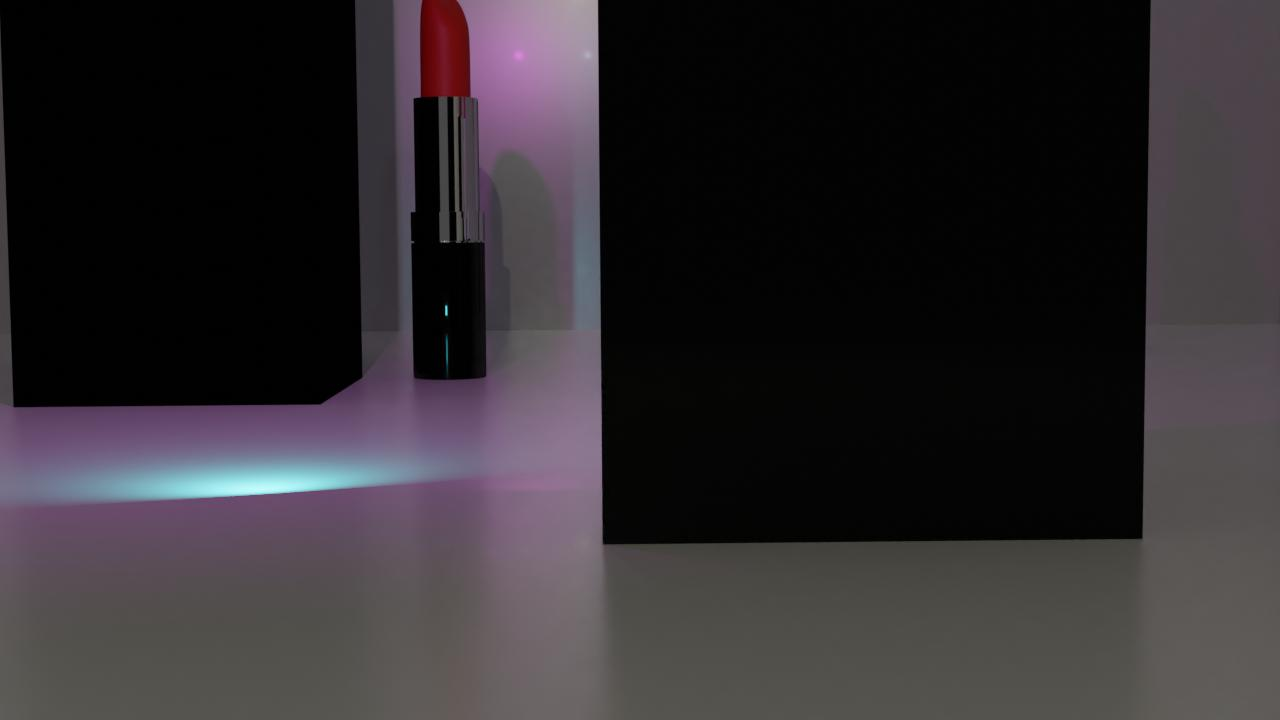CLASSIFIER_NAME: (409, 0, 487, 380)
